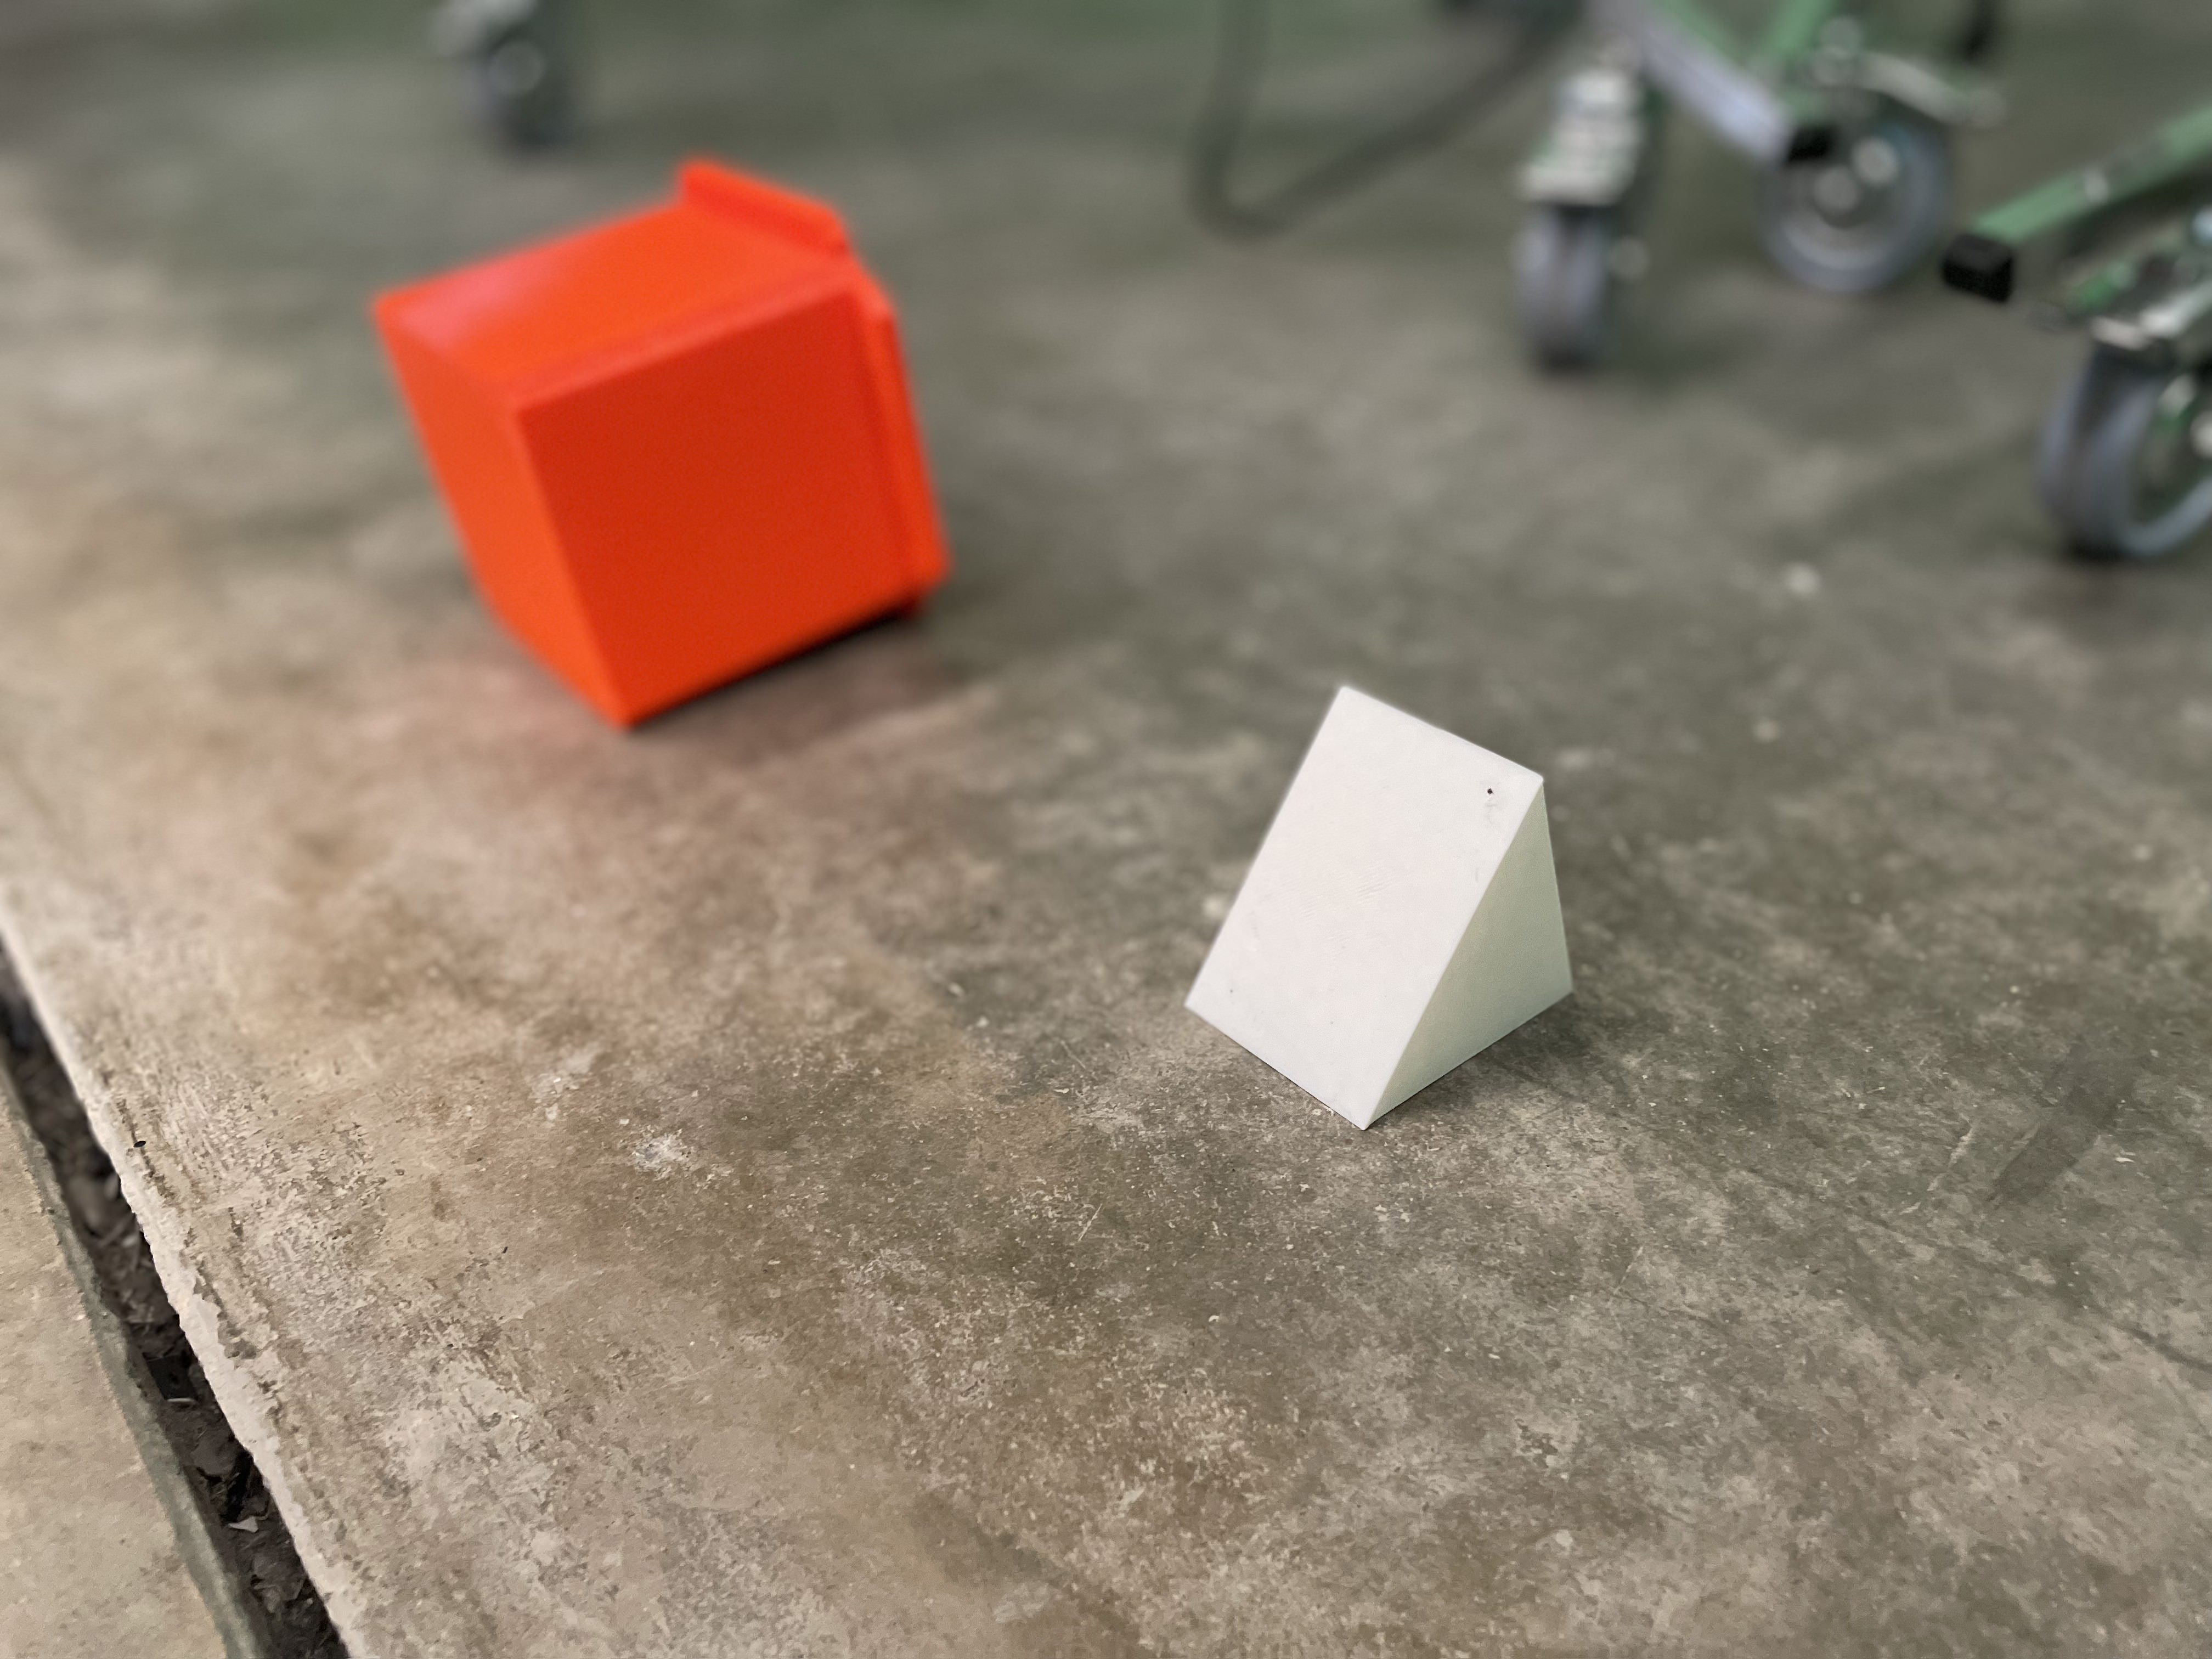payload1: (355, 145, 970, 758)
payload2: (1157, 657, 1613, 1197)
